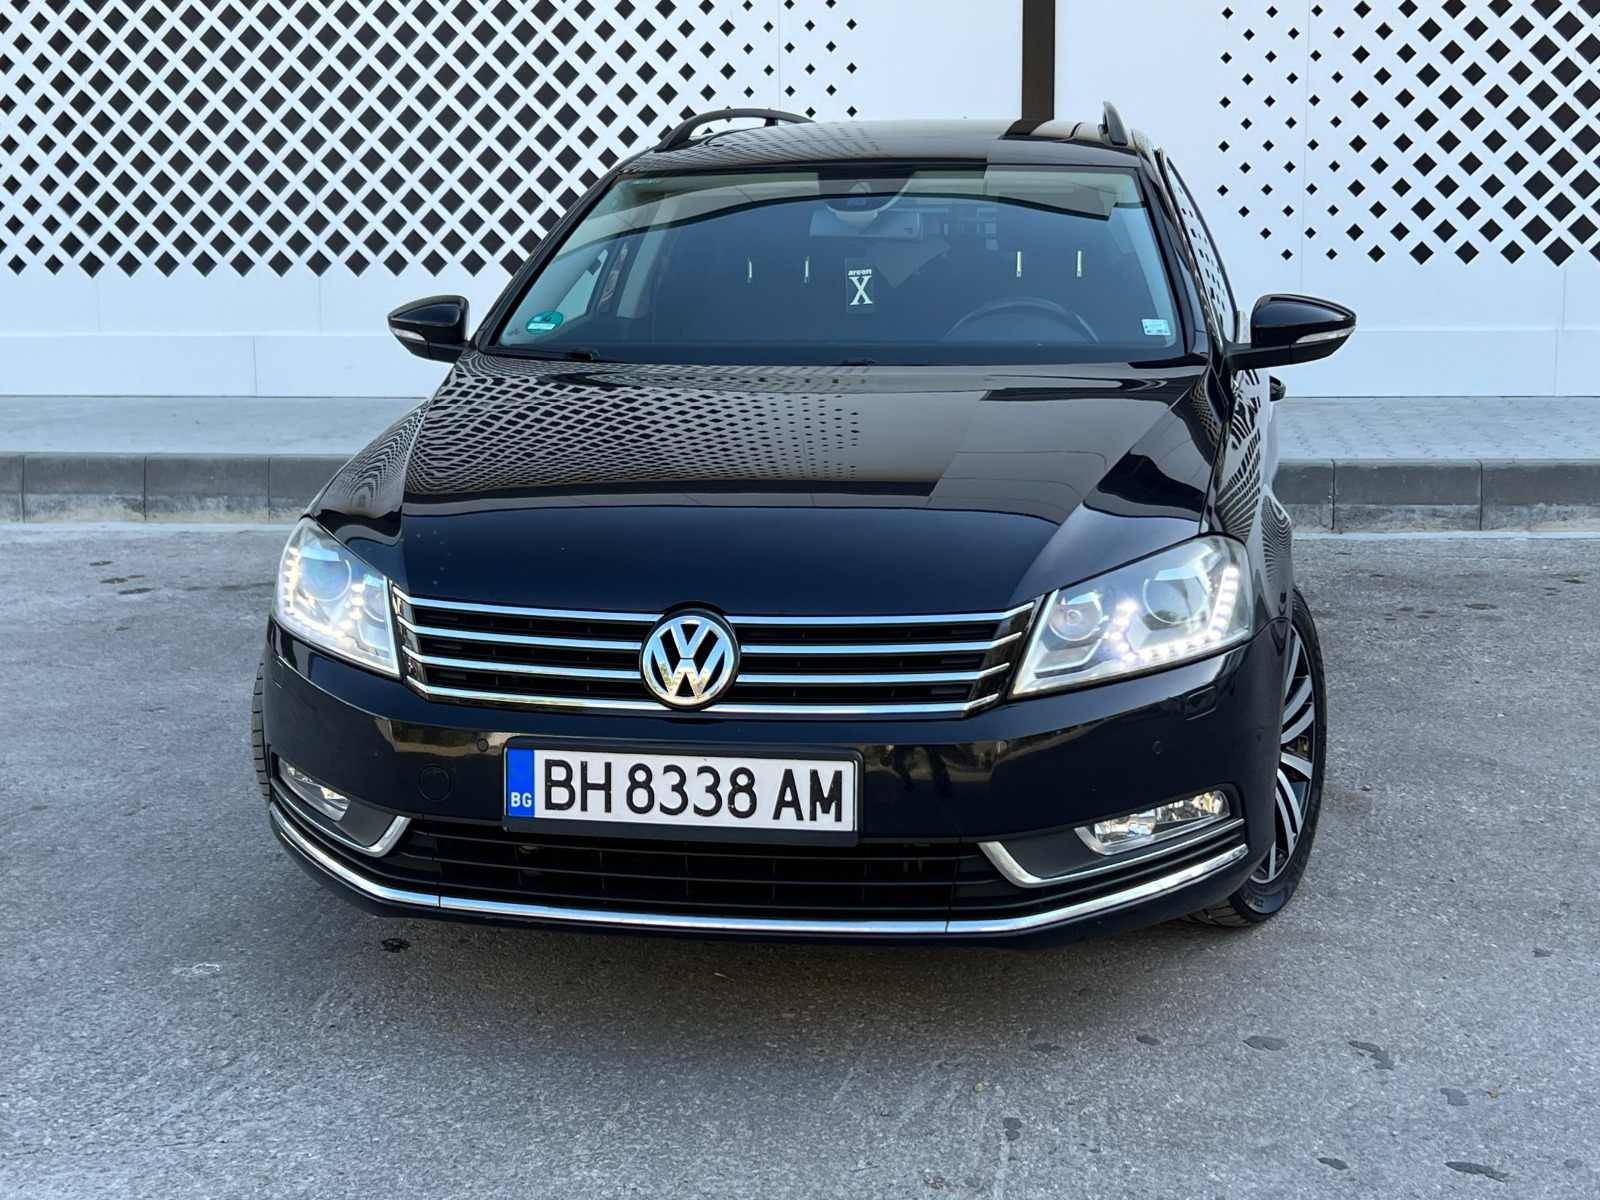registration_plate: (501, 747, 864, 845)
